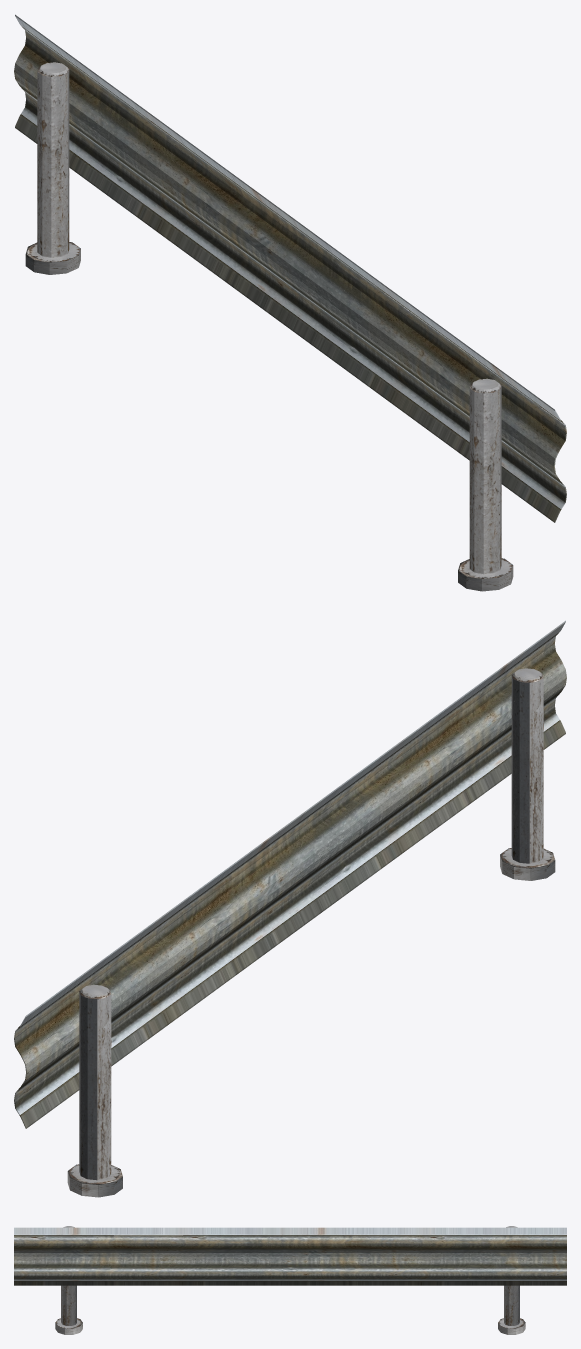
Rendered from RoadBarricade.fbx.
3 renders of one model, top to bottom at view 1: azimuth 30°, elevation 25°; view 2: azimuth 150°, elevation 25°; view 3: azimuth 270°, elevation 25°, orthographic. The views are drawn at different scales.
Visible parts, largest first — view 1: Cube, Circle.001, Circle.003; view 2: Cube, Circle.003, Circle.001; view 3: Cube, Circle.001, Circle.003.
Boxes of the visible parts, left/top/right/bottom form: Cube: left=14, top=14, right=566, bottom=522; Circle.001: left=458, top=378, right=513, bottom=591; Circle.003: left=25, top=62, right=80, bottom=274; Cube: left=14, top=620, right=566, bottom=1128; Circle.003: left=67, top=984, right=122, bottom=1197; Circle.001: left=500, top=668, right=555, bottom=880; Cube: left=14, top=1227, right=566, bottom=1285; Circle.001: left=55, top=1226, right=82, bottom=1334; Circle.003: left=498, top=1226, right=525, bottom=1334.
Bounding box in the file's own units: 27.21 × 105 × 500.
